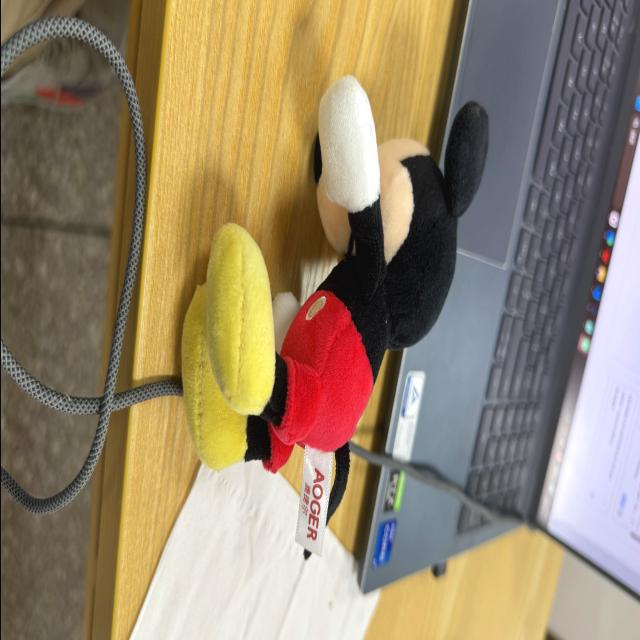mickey: (182, 77, 487, 518)
